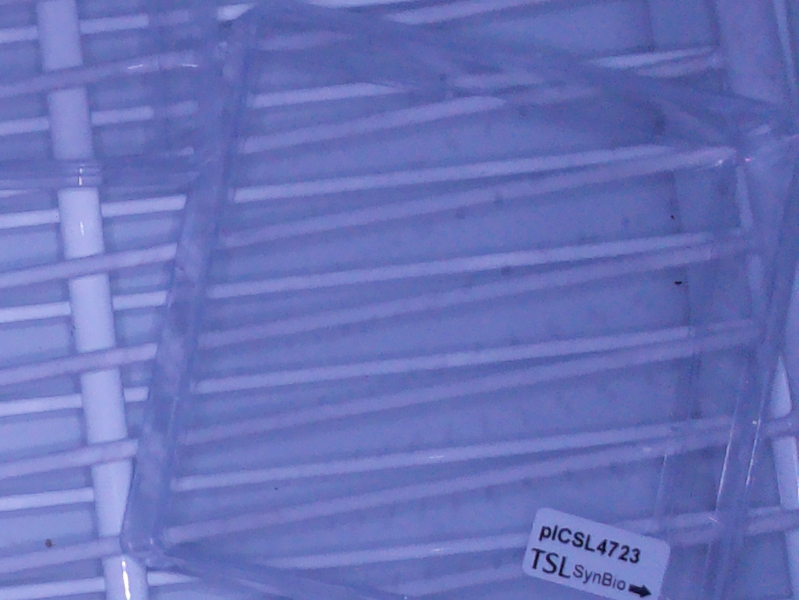plate: (118, 3, 799, 600), (1, 1, 233, 194)
